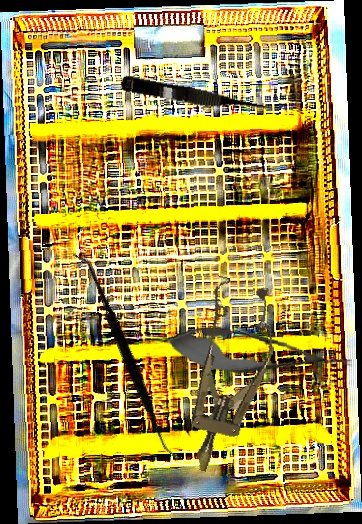Micro Scissor: (161, 318, 355, 387), (118, 74, 277, 121)
Spatula Surgical: (8, 250, 243, 463)
Speculum: (165, 274, 289, 481)
